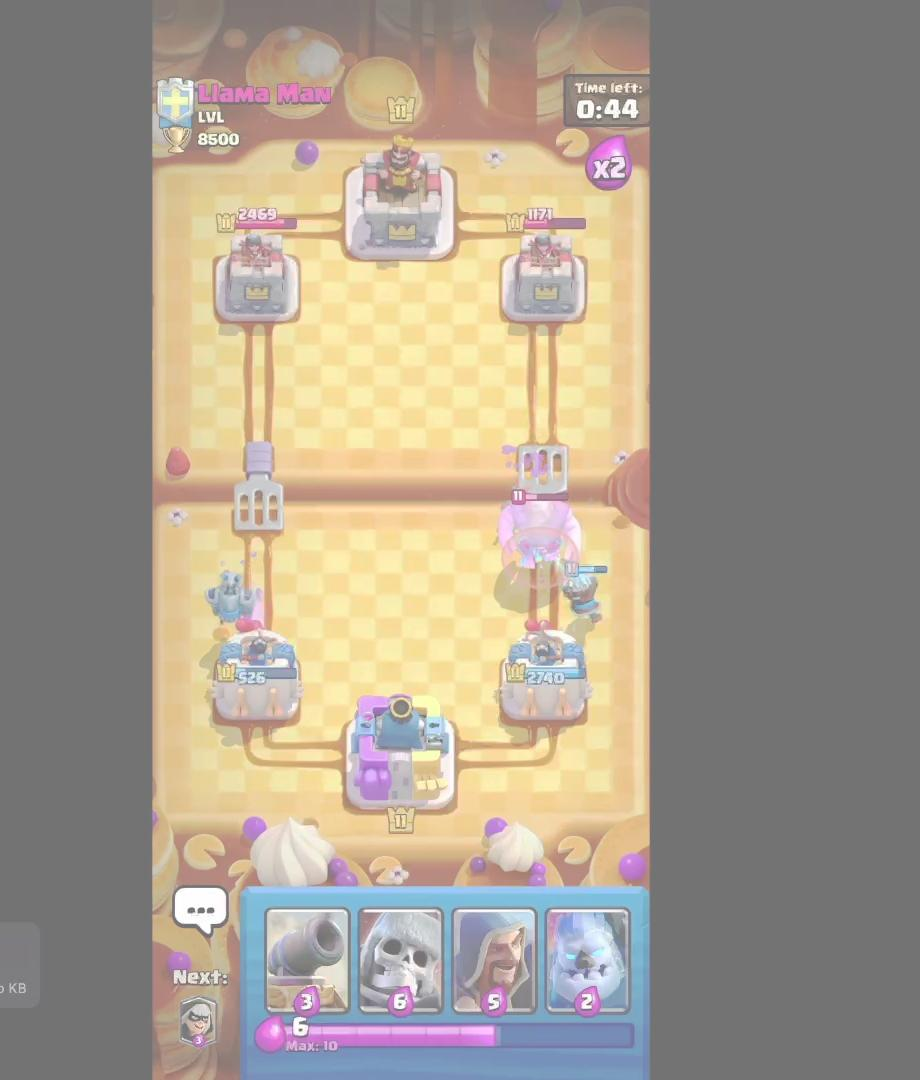Giant: (495, 488, 583, 590)
